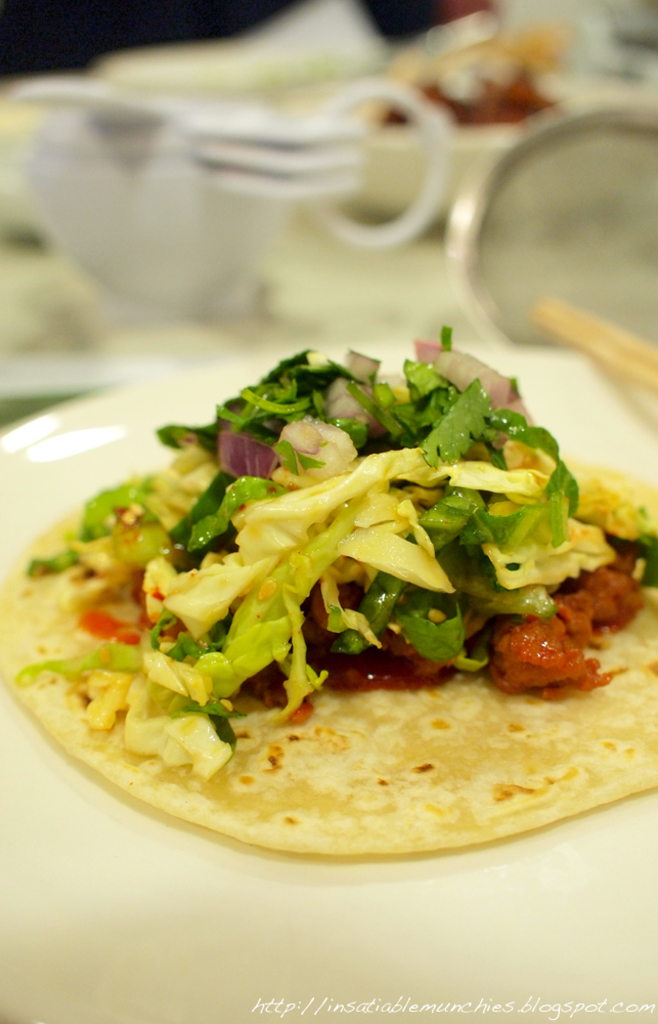taco: (0, 329, 657, 856)
